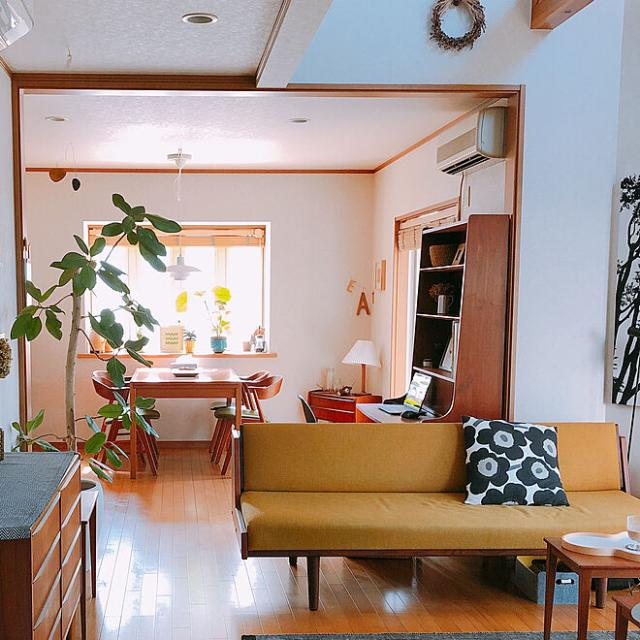vintage chair: (89, 369, 160, 475)
vintage desk: (128, 362, 239, 470), (542, 529, 640, 640)
vintage shelf: (394, 210, 506, 418), (0, 444, 90, 640)
vintage sofa: (224, 415, 640, 566)
